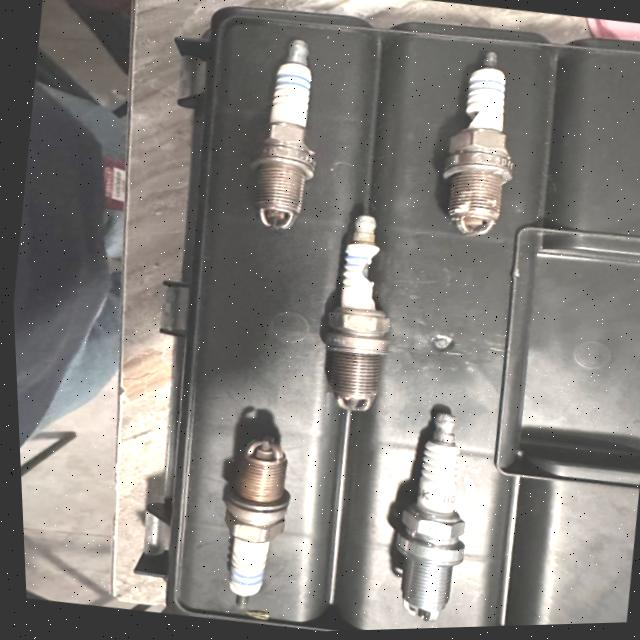damaged_spark-plug: (301, 211, 408, 417), (424, 53, 522, 244)
spark-plug: (370, 398, 478, 628), (241, 33, 331, 238), (202, 431, 291, 620)
